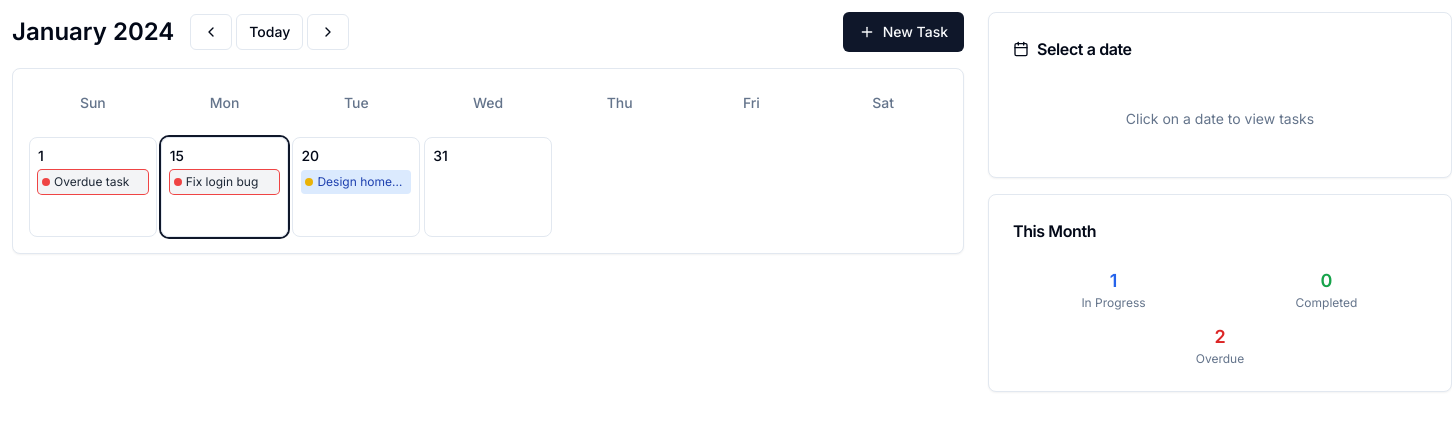
Test: CalendarView › should show estimated hours in sidebar
Note: Select date with task that has estimated hours
Click the text "20" at point(310, 156), box [301,147,319,164]
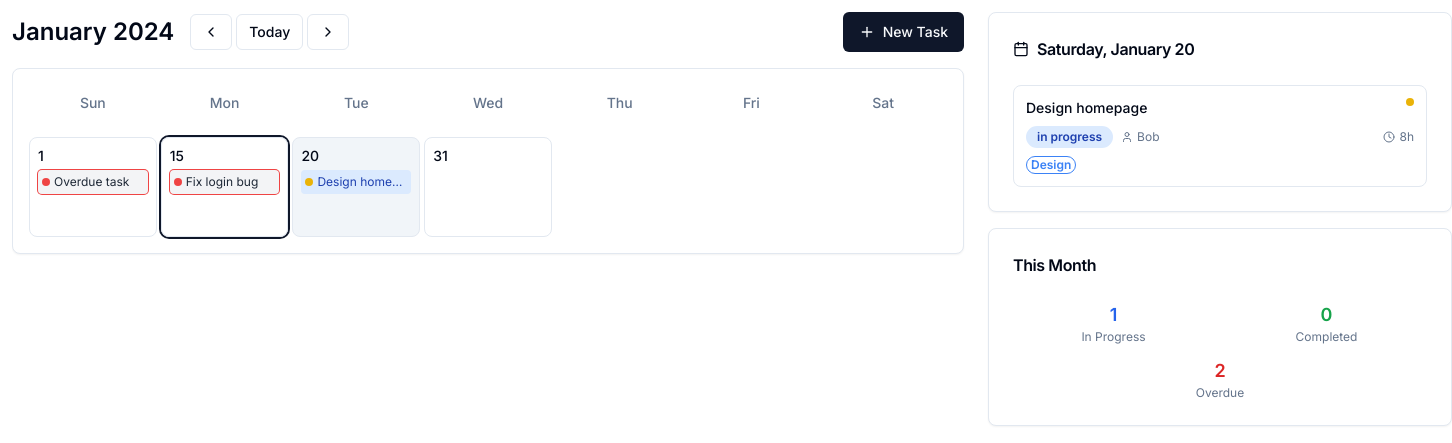
Expected: the text "8h" is shown, [1400,129,1414,145]
